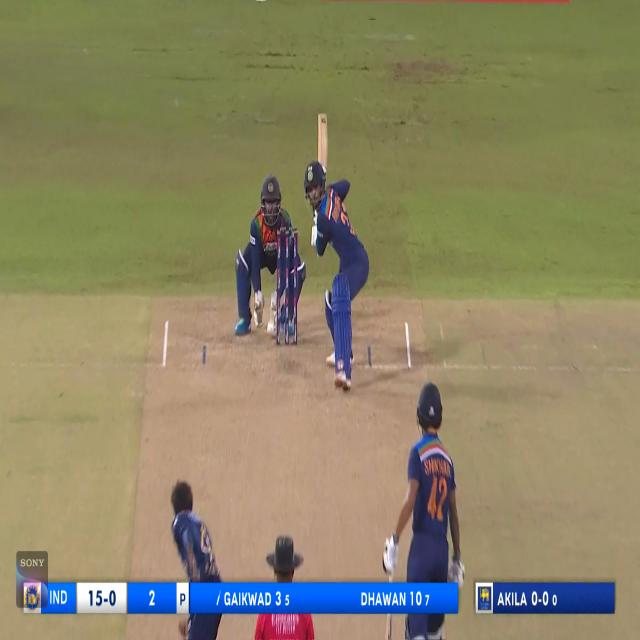ball: (266, 321, 274, 336)
